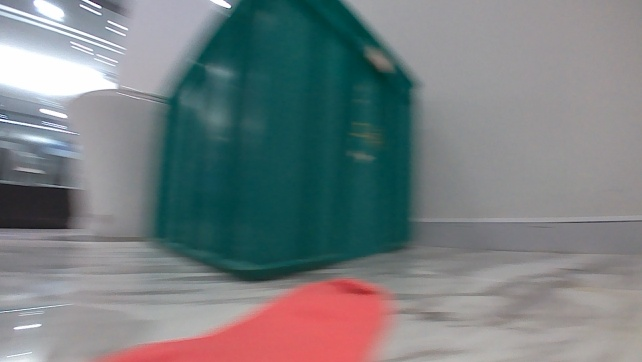socks: (84, 275, 402, 361)
toilet: (60, 80, 170, 239)
